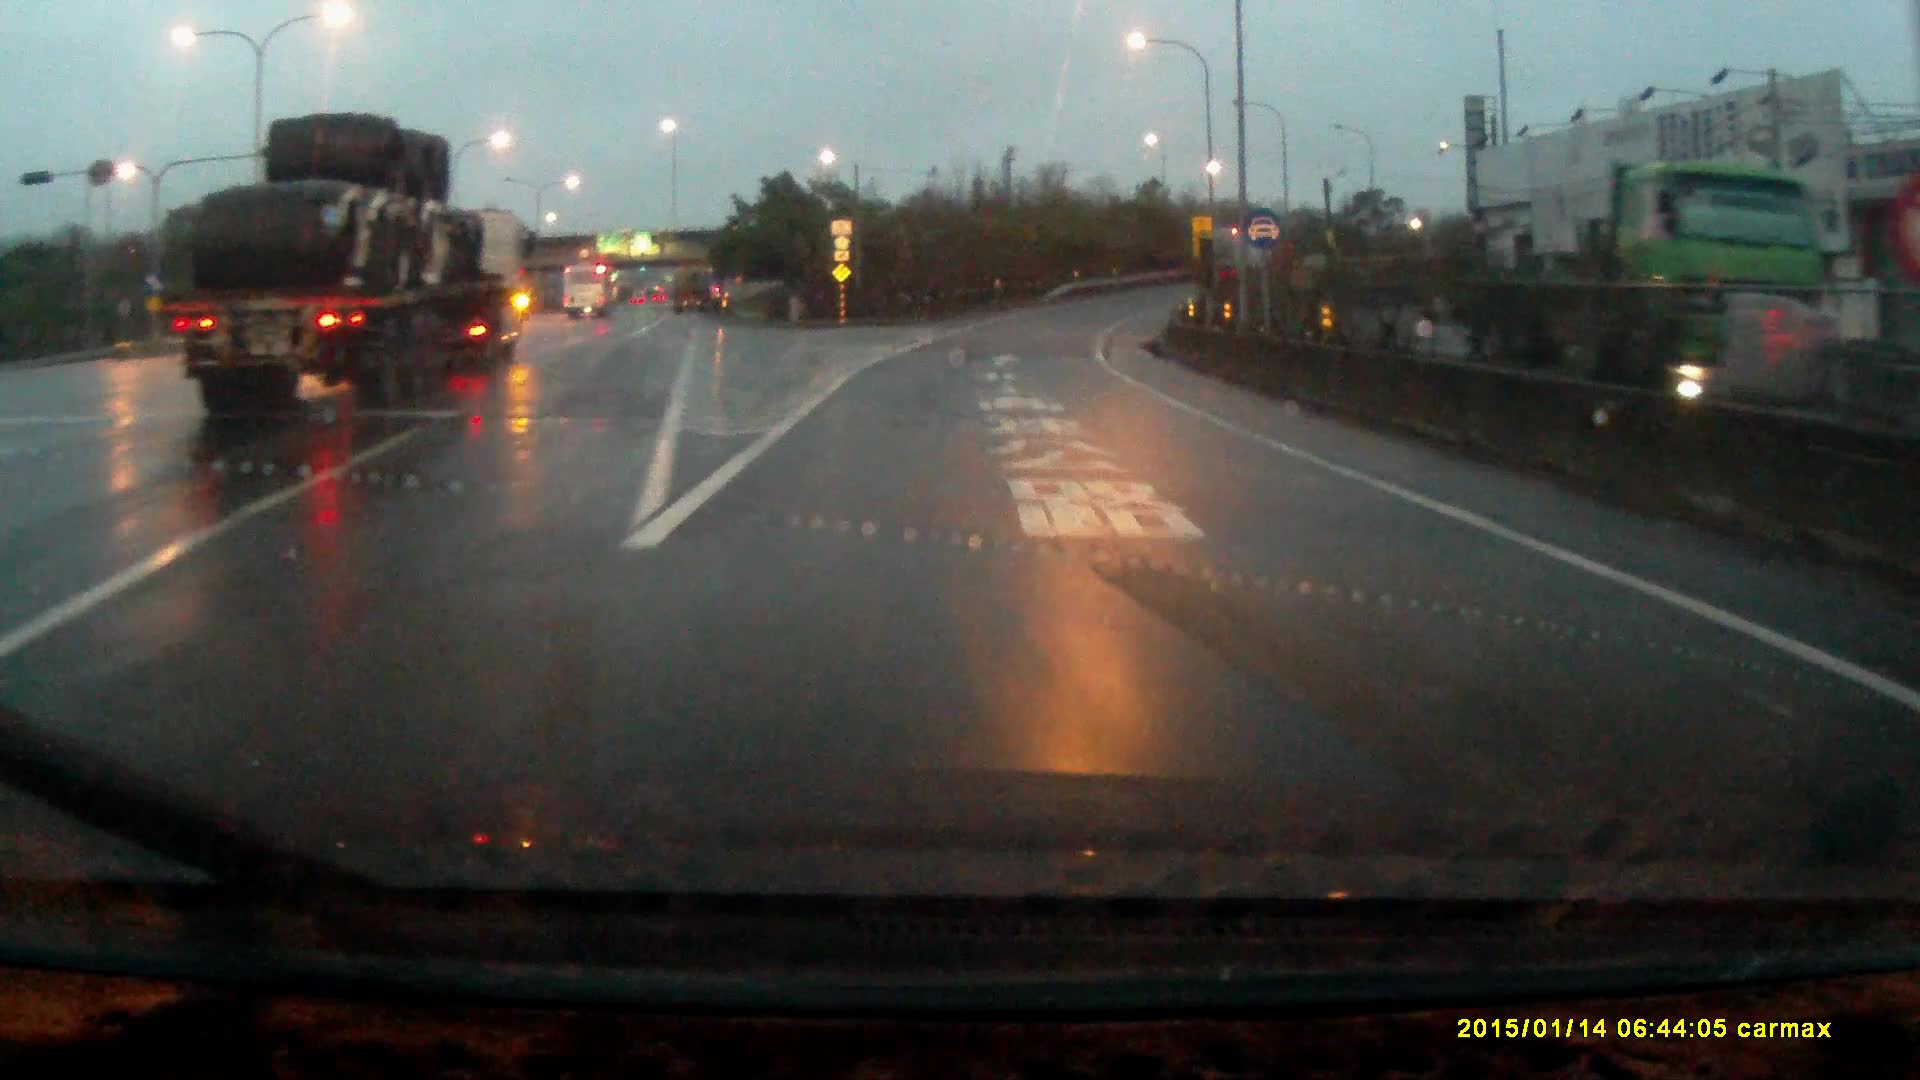vehicle: (156, 112, 537, 406), (560, 262, 613, 320)
